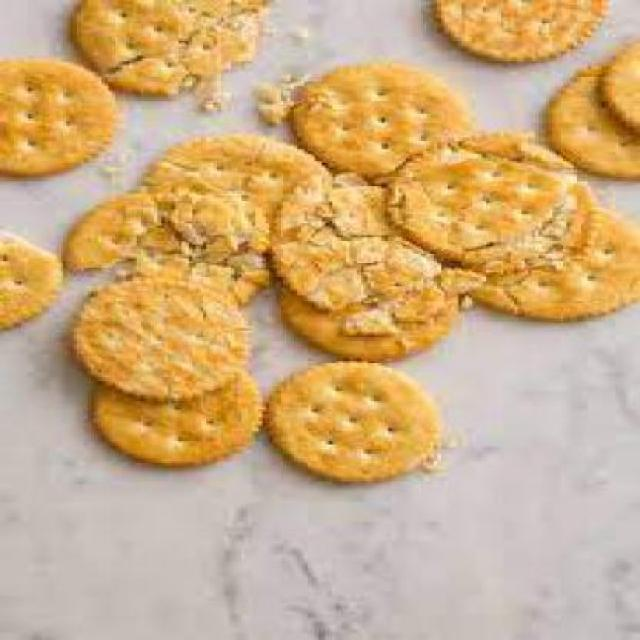Ritz cracker packaged: (24, 7, 633, 498)
